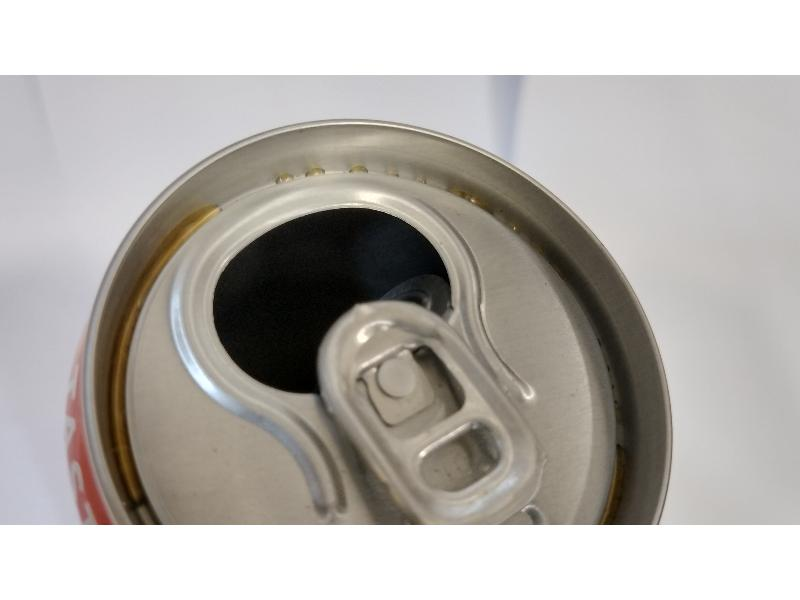can: (52, 108, 688, 527)
